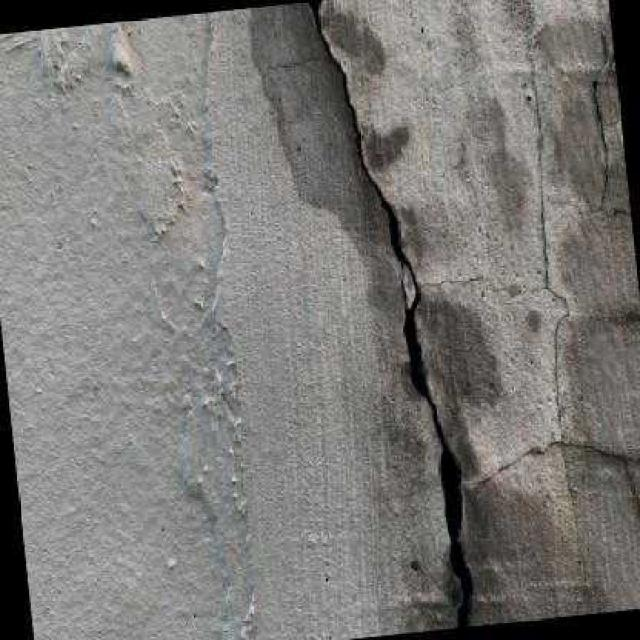D00: (305, 0, 472, 628)
